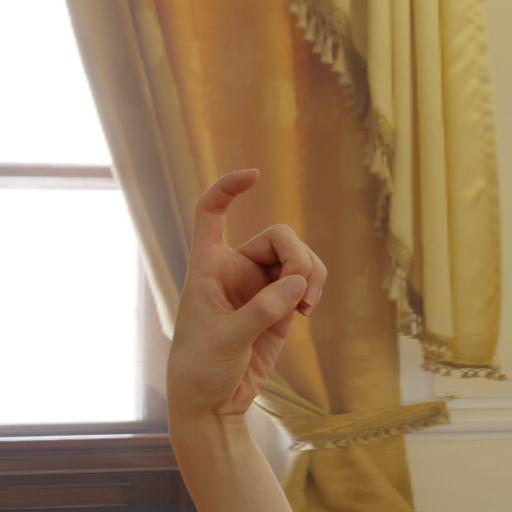X: (158, 164, 329, 427)
